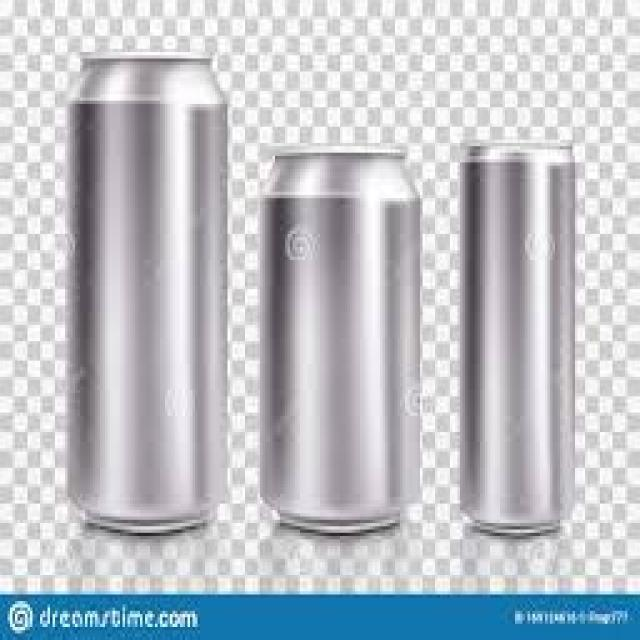recyclable: (68, 62, 226, 536), (262, 145, 422, 537), (460, 141, 578, 537)
